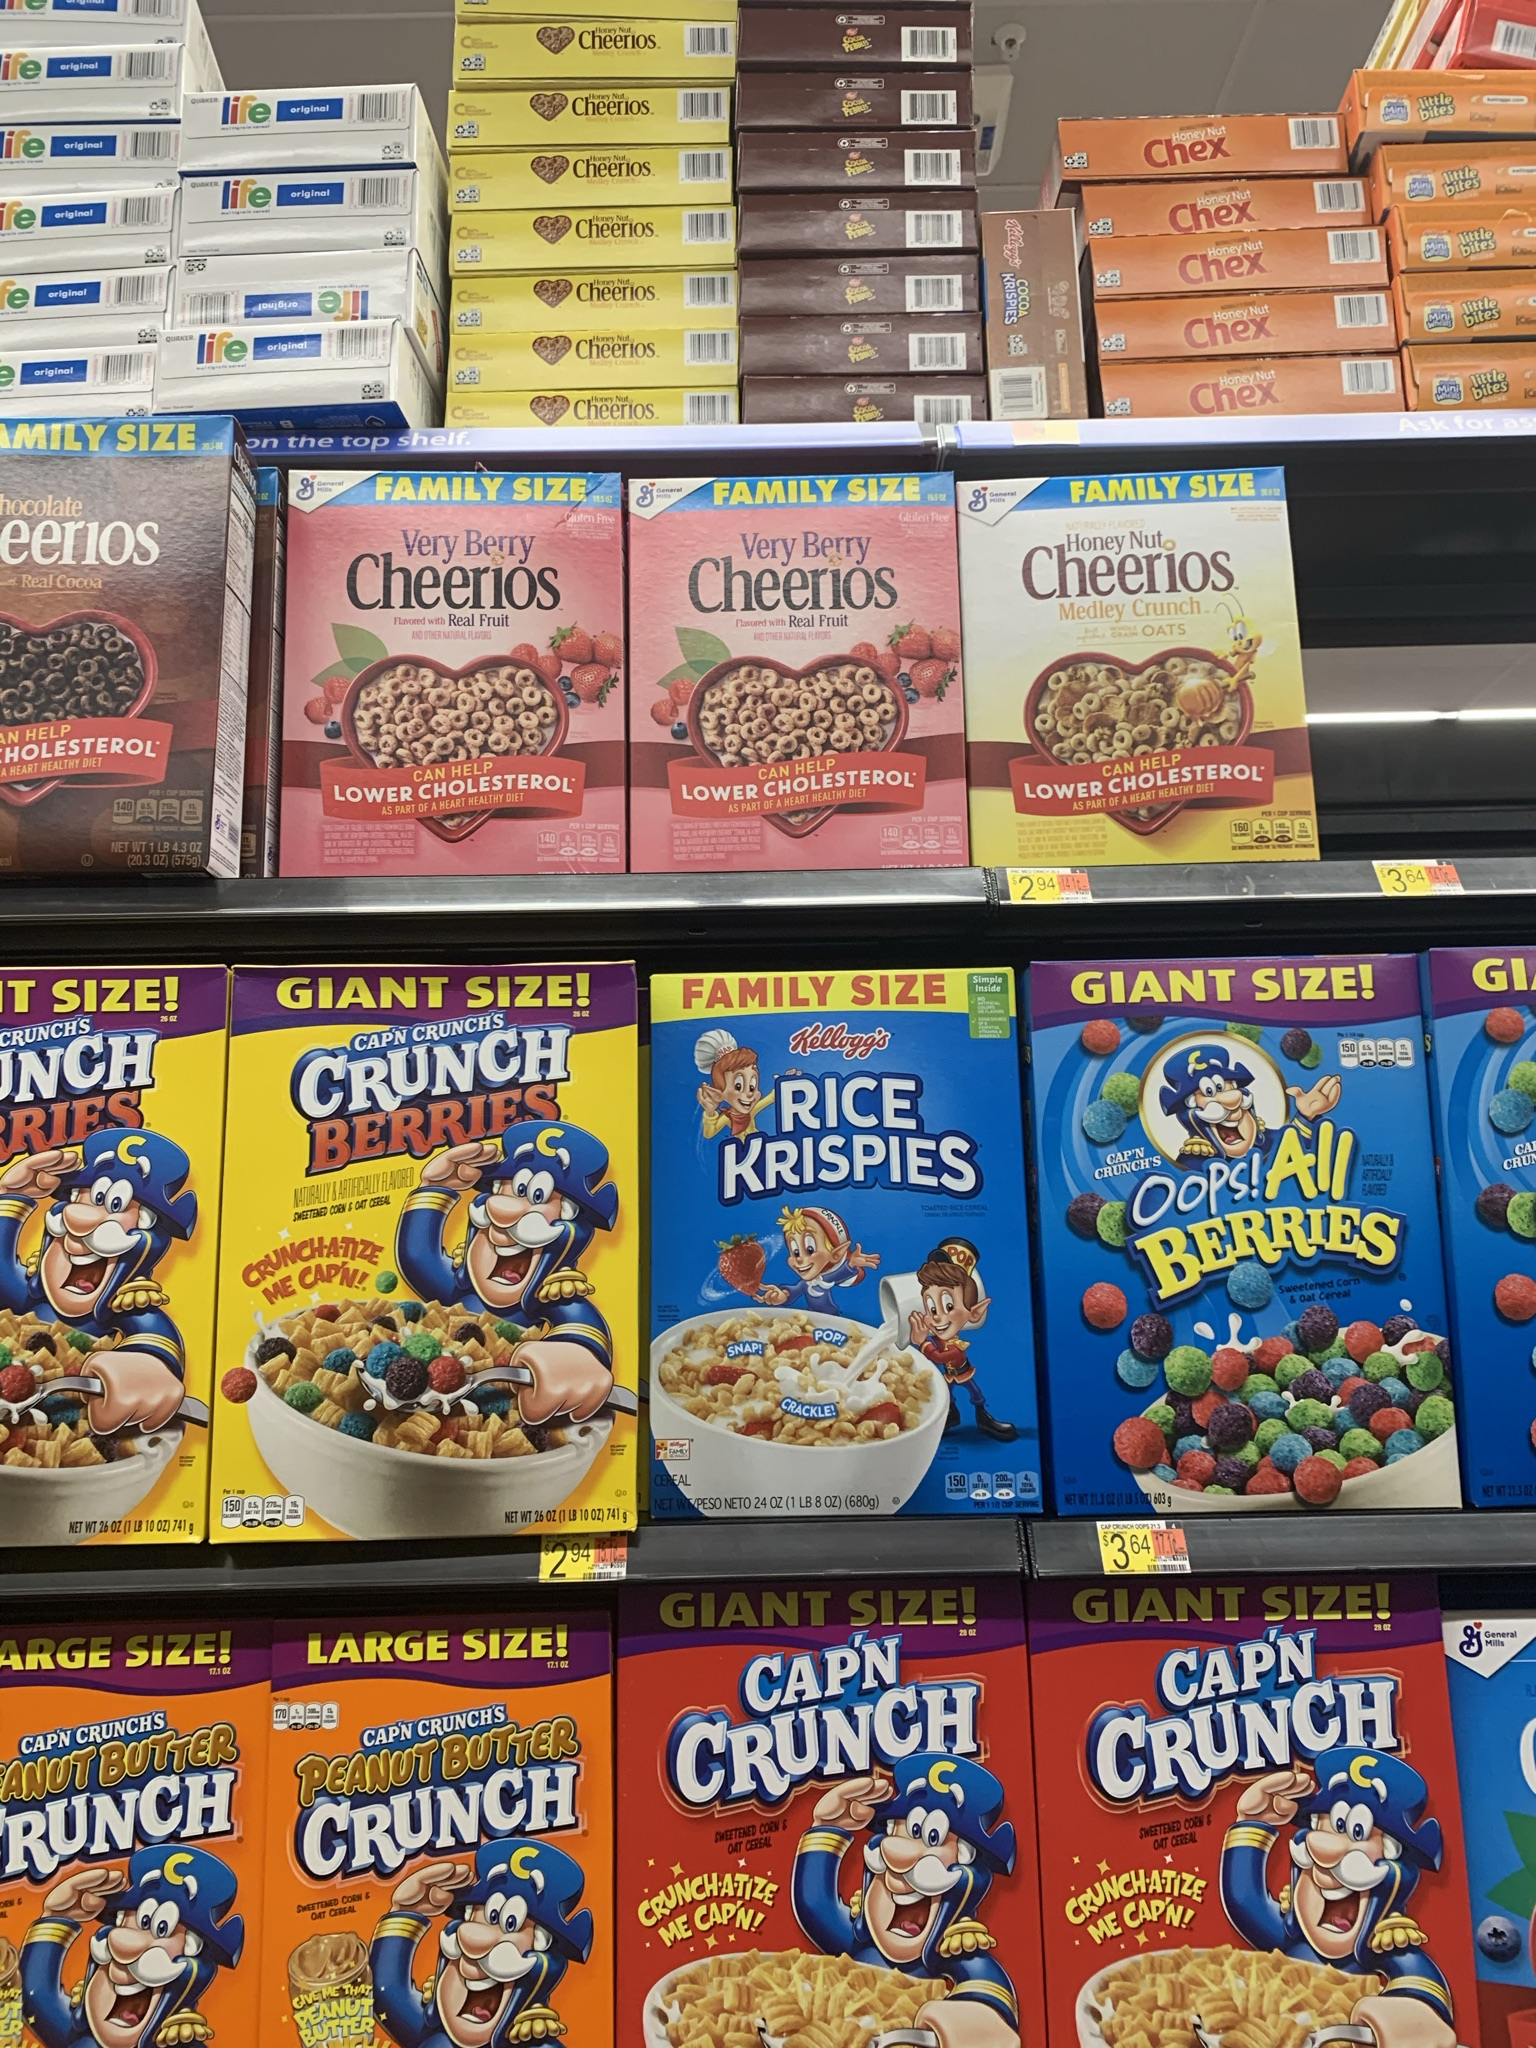box: (244, 977, 629, 1526), (1062, 976, 1454, 1514), (682, 985, 1034, 1513), (1068, 1608, 1459, 2048), (642, 1630, 1029, 2046), (294, 1658, 607, 2048), (303, 487, 620, 871), (2, 977, 211, 1534), (649, 489, 955, 864), (979, 497, 1292, 848), (2, 1659, 273, 2048), (2, 431, 229, 864)
